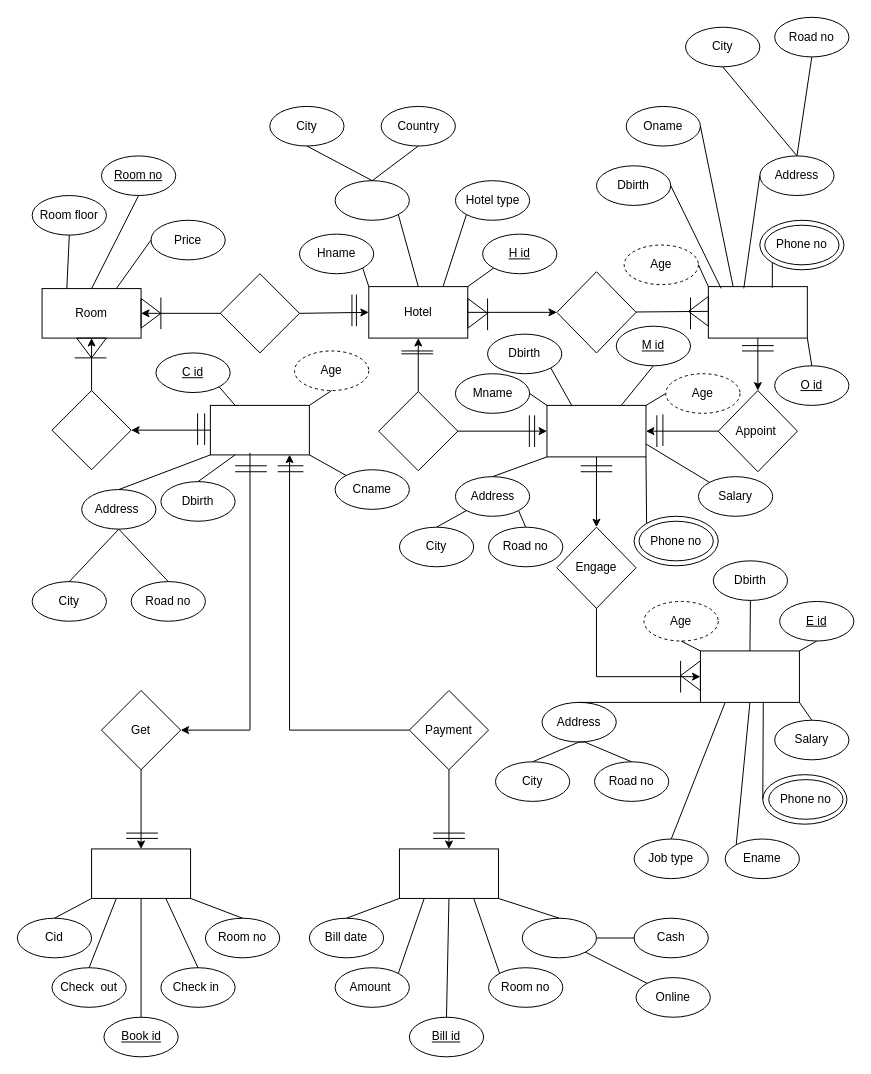
Image size: 871x1074. Some labels were removed from this diagram. Each missing label, with the centre of its shape:
"Bill" belongs at point (448, 873).
"Book" belongs at point (91, 430).
"Booking Information" belongs at point (141, 873).
"Customer" belongs at point (259, 429).
"Employee" belongs at point (749, 676).
"Has" belongs at point (259, 313).
"Location" belongs at point (371, 200).
"Manager" belongs at point (596, 430).
"Operate" belongs at point (418, 431).
"Owner" belongs at point (757, 312).
"Owns" belongs at point (596, 312).
"Payment method" belongs at point (558, 937).
